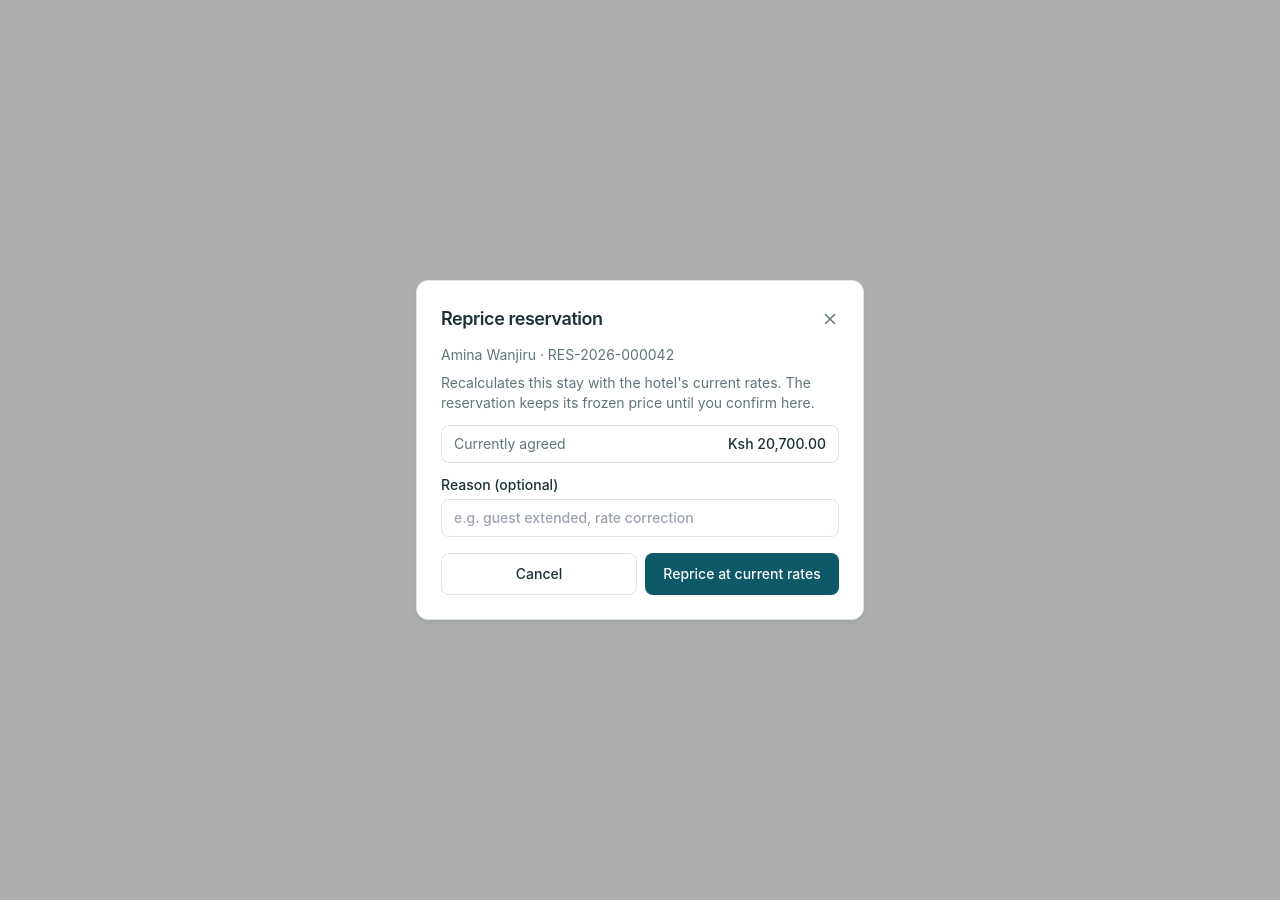
Test: RepriceDialog › reprices the reservation it was opened for and reports the change
Step 1. Type "guest extended" into the field with placeholder "e.g. guest extended, rate correction" → (640, 518), box [441, 499, 839, 537]
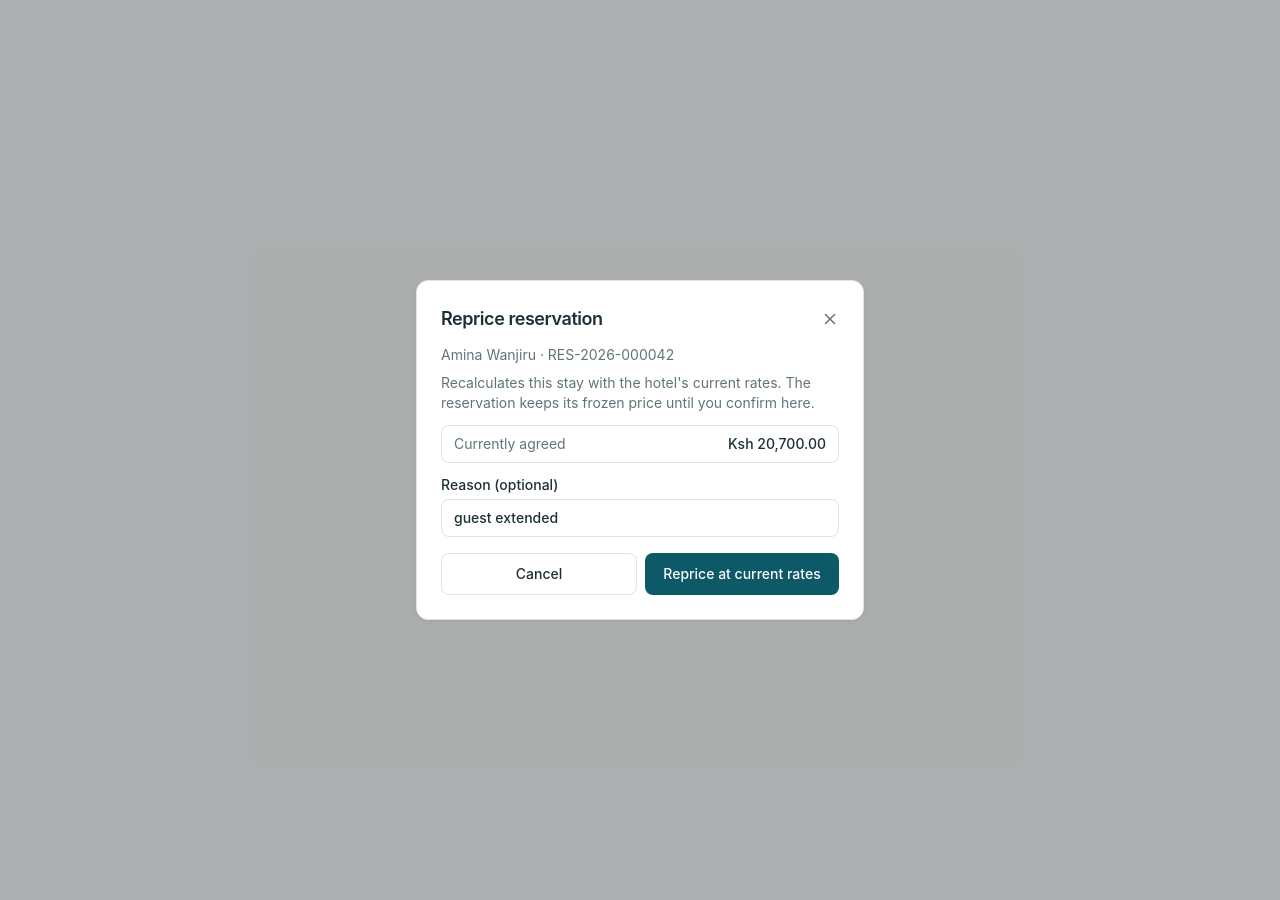
Step 2. Click the button "Reprice at current rates" → (742, 574), box [645, 553, 839, 595]
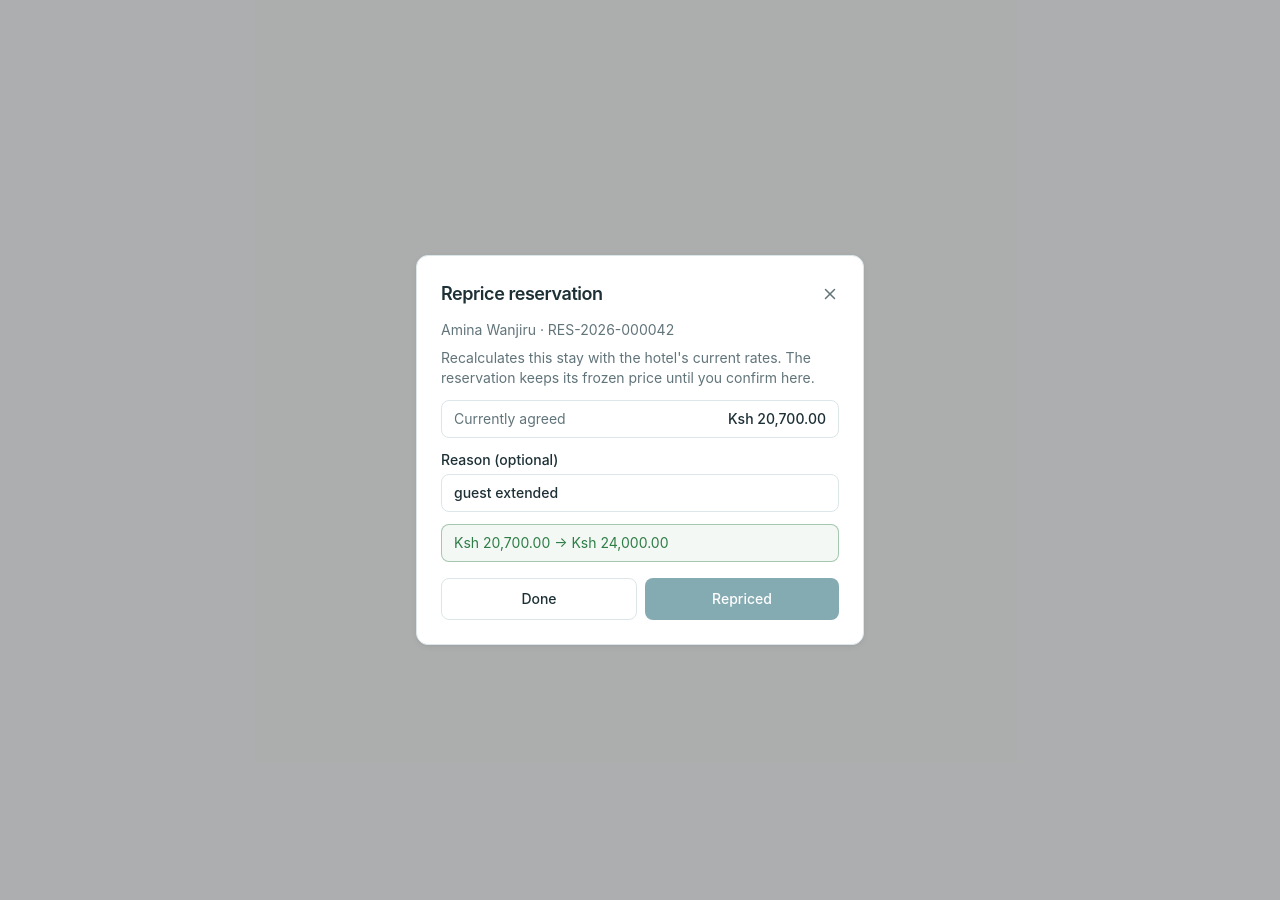
Expected: the text "Ksh 20,700.00 → Ksh 24,000.00" is shown, [454, 534, 668, 551]
Expected: the text with test id "reprice-result" shows "20,700", [454, 534, 550, 551]
Expected: the text with test id "reprice-result" shows "24,000", [572, 534, 669, 551]
